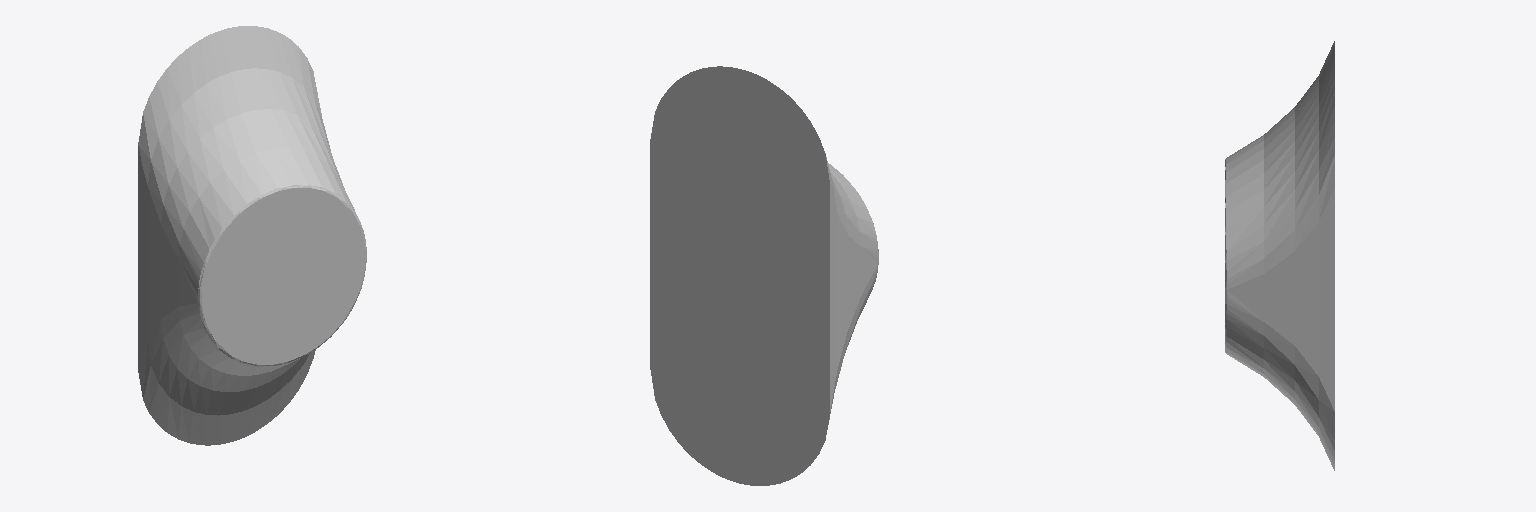
Rendered from lower_neck.obj.
3 views of the same model, side by side, from view 1: azimuth 30°, elevation 25°; view 2: azimuth 150°, elevation 25°; view 3: azimuth 270°, elevation 25° (orthographic).
Bounding box in the file's own units: 0.15 × 0.33 × 0.08.